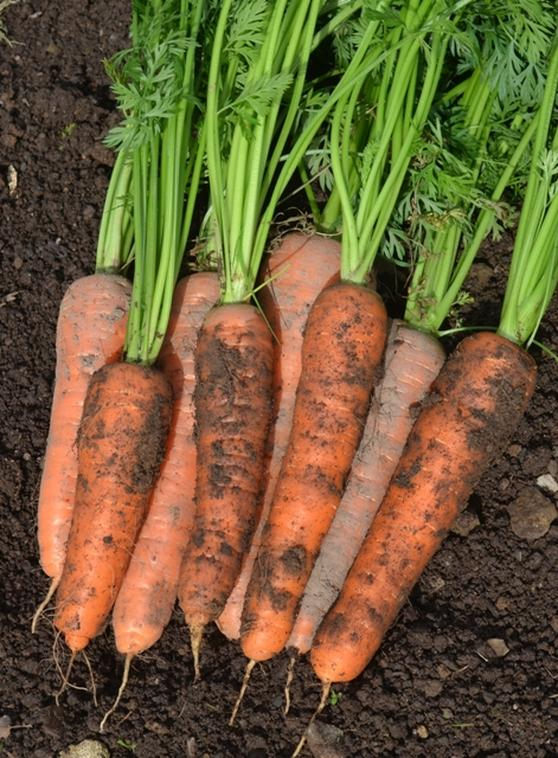carrot: (254, 277, 388, 669), (179, 294, 270, 647), (64, 356, 169, 658)
